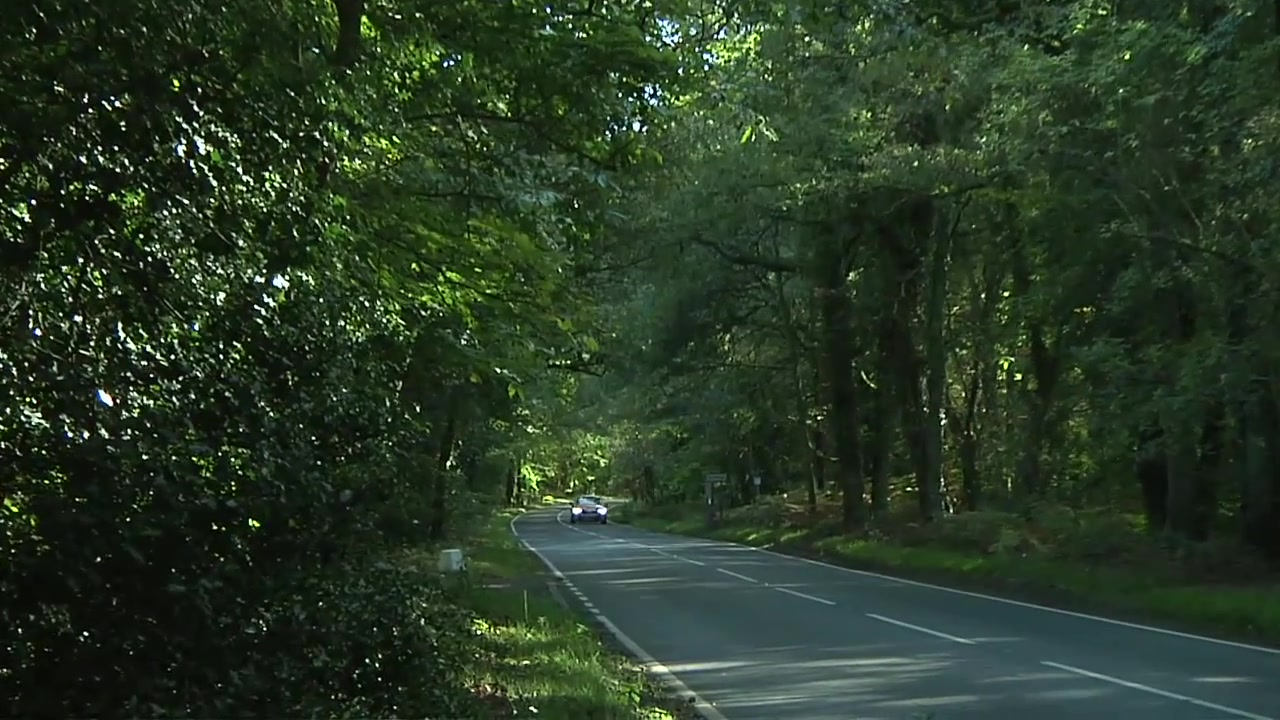car: (571, 496, 612, 526)
